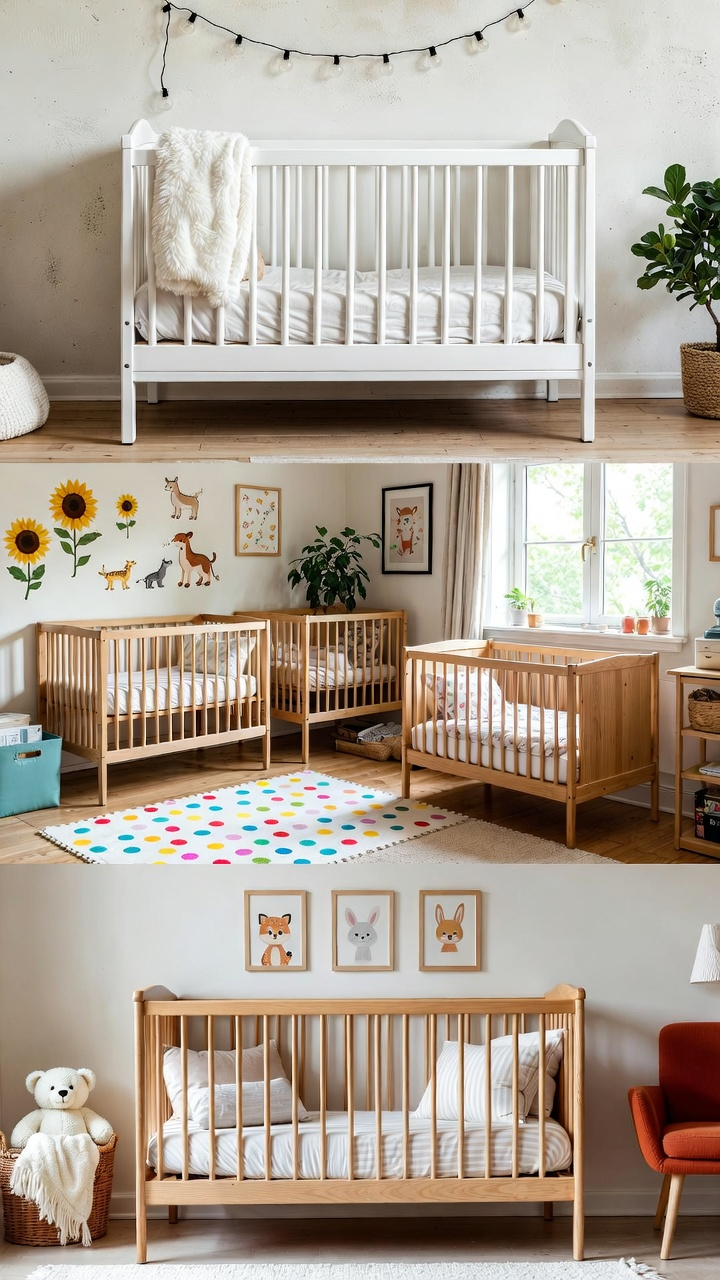crib: (122, 121, 594, 442), (134, 986, 584, 1262), (402, 639, 657, 846), (37, 615, 268, 804), (235, 606, 405, 764)
